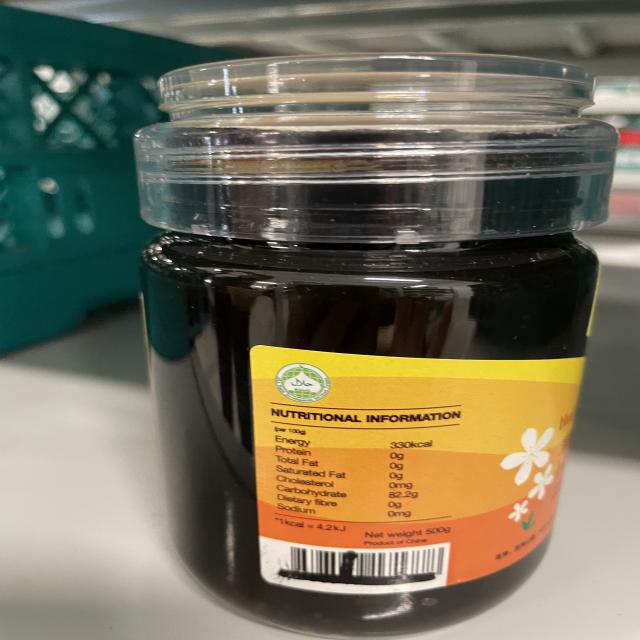object_name: (147, 71, 581, 631)
